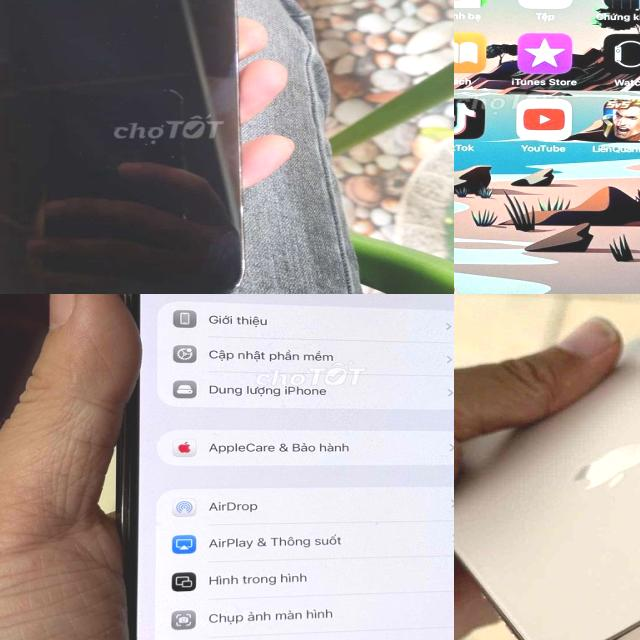gen_12_13: (117, 294, 454, 640), (0, 0, 251, 294)
gen_16: (454, 338, 640, 640)
gen_7_8: (454, 0, 640, 294)
